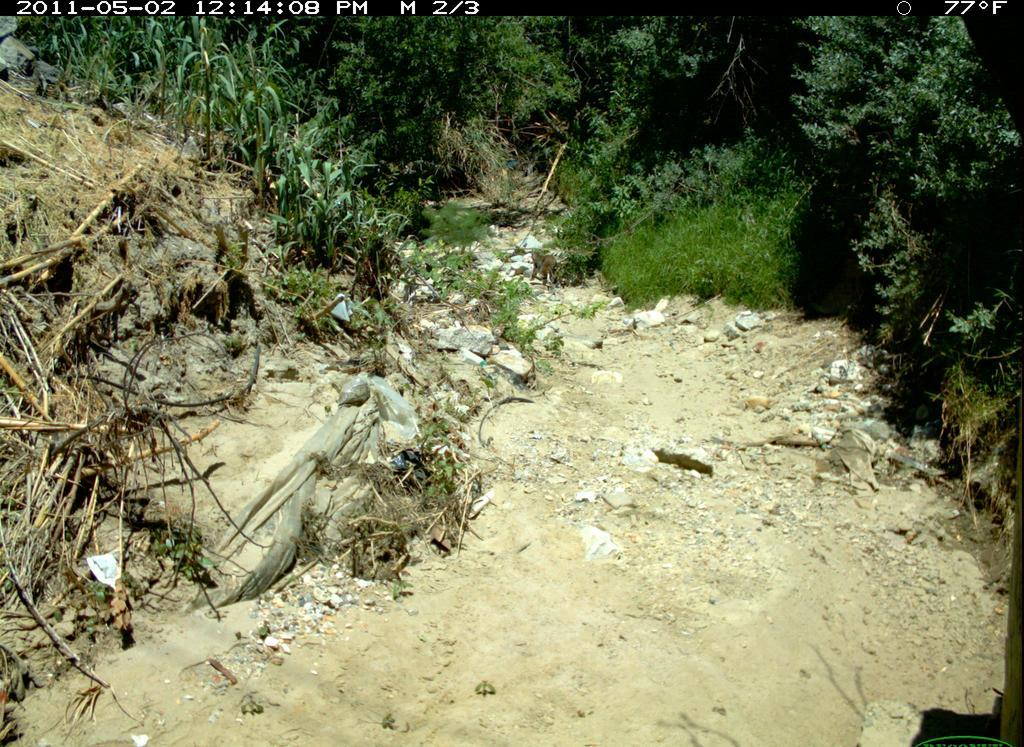bobcat: (528, 237, 568, 286)
